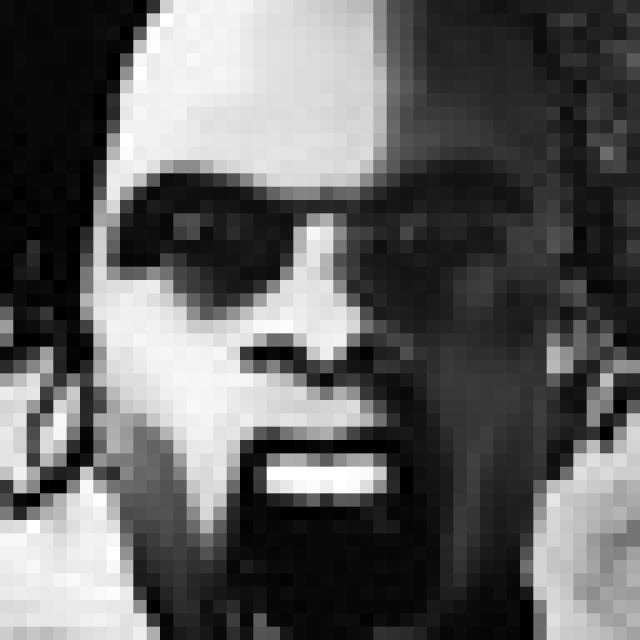angry: (112, 160, 538, 640)
